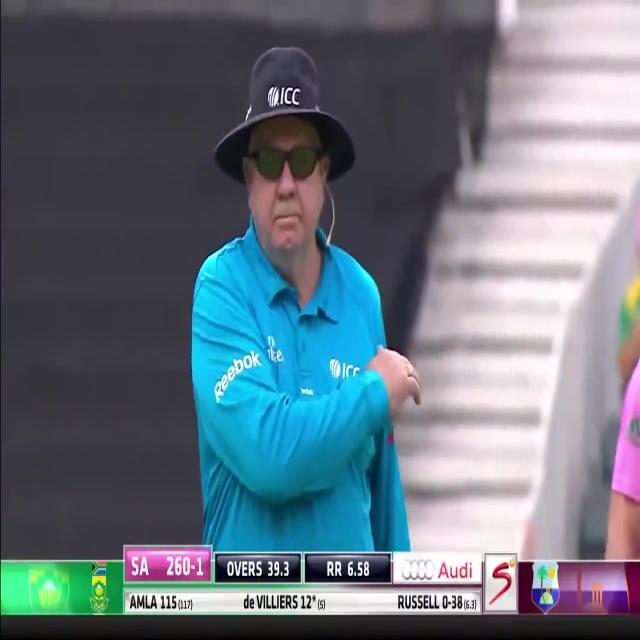Ball: (508, 0, 640, 568)
Umpire: (192, 49, 426, 551)
